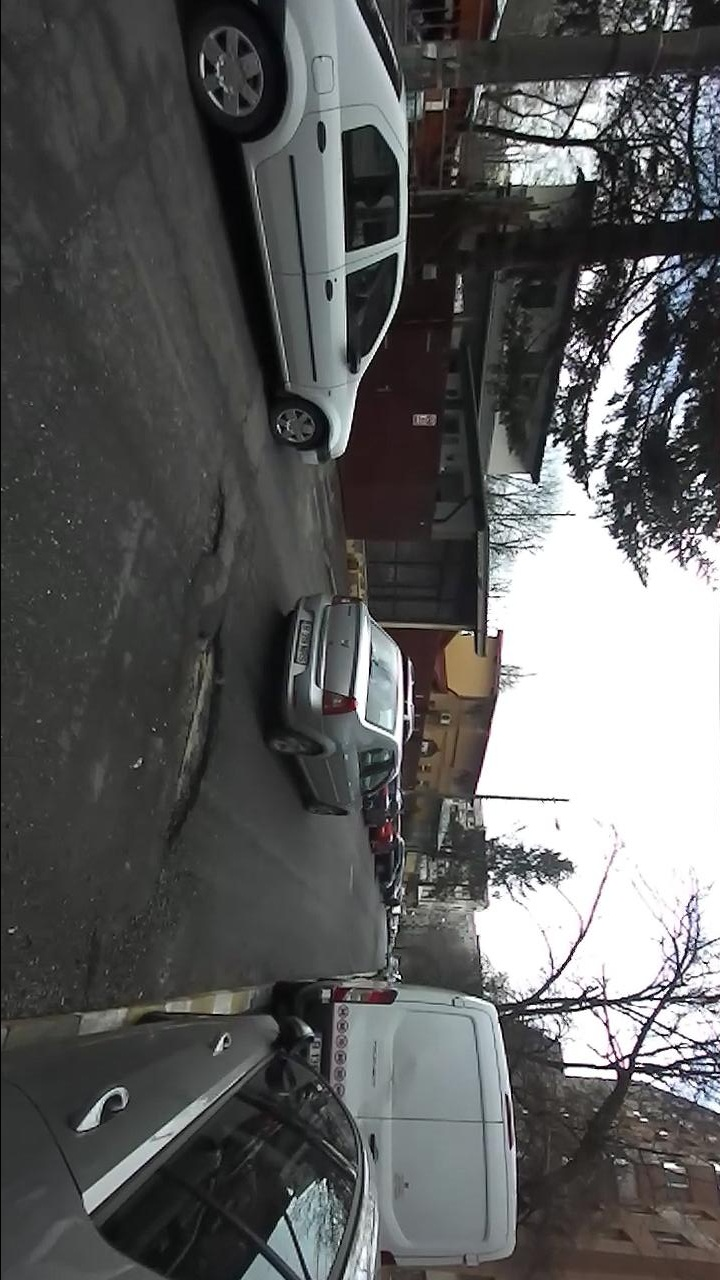pothole: (156, 623, 231, 859), (192, 474, 231, 567)
